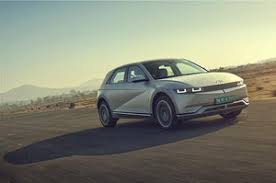Honda Ioniq: (91, 57, 254, 139)
